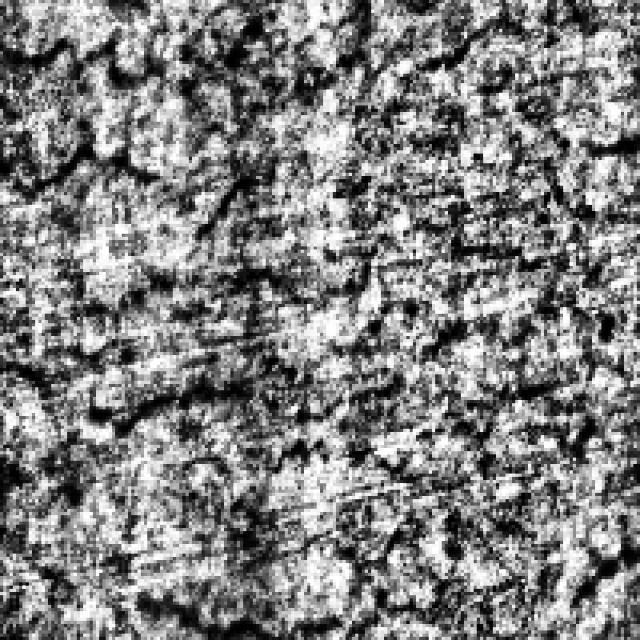Pitted_Surface: (0, 141, 403, 467), (54, 300, 580, 500), (0, 16, 467, 205), (170, 0, 564, 115)
